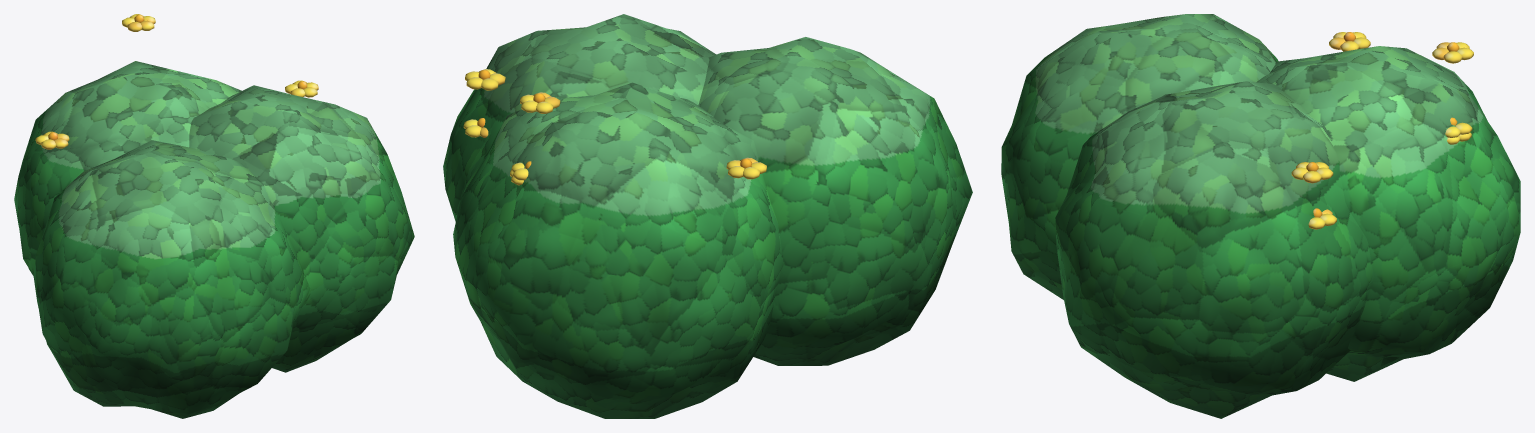
Rendered from bush_a.glb.
3 renders of one model, left to right at view 1: azimuth 30°, elevation 25°; view 2: azimuth 150°, elevation 25°; view 3: azimuth 270°, elevation 25°, orthographic. The views are drawn at different scales.
Visible parts, largest first — view 1: Bush_leaf; view 2: Bush_leaf; view 3: Bush_leaf.
Boxes of the visible parts, x1,y1,x2,y2 form: Bush_leaf: (14, 14, 414, 418); Bush_leaf: (443, 14, 972, 418); Bush_leaf: (1001, 14, 1520, 418).
Size of the model in its own units: 1.74 by 1.26 by 1.78.
Materials: 1 (1 with a texture image).
